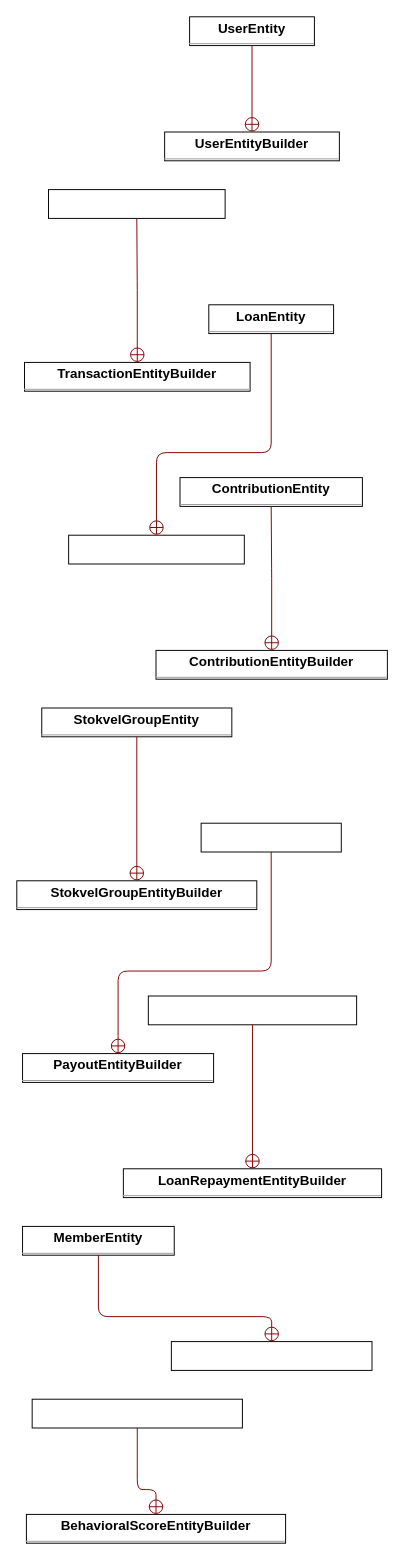
This 404x1560 diagram has some shape labels left out. The centre of each missing label's shape, as x and y in pixels:
"BehavioralScoreEntity" belongs at point 136,1413.
"LoanEntityBuilder" belongs at point 156,549.
"LoanRepaymentEntity" belongs at point 252,1010.
"MemberEntityBuilder" belongs at point 271,1355.
"PayoutEntity" belongs at point 270,837.
"TransactionEntity" belongs at point 136,203.
